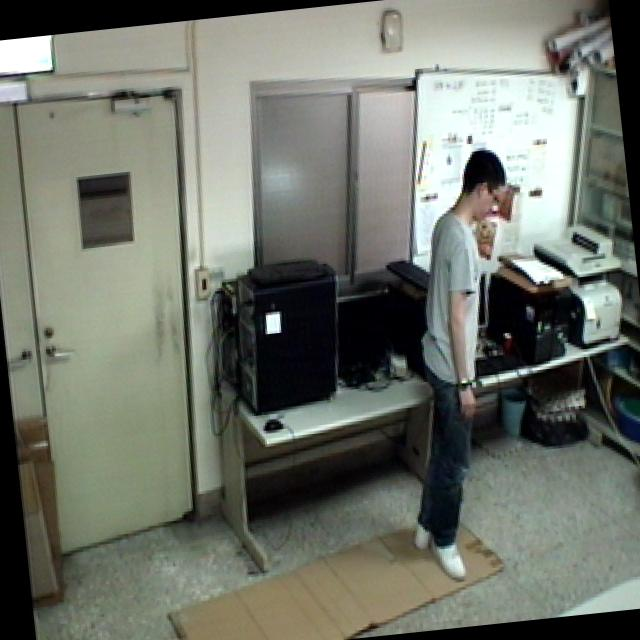stand: (356, 132, 553, 598)
